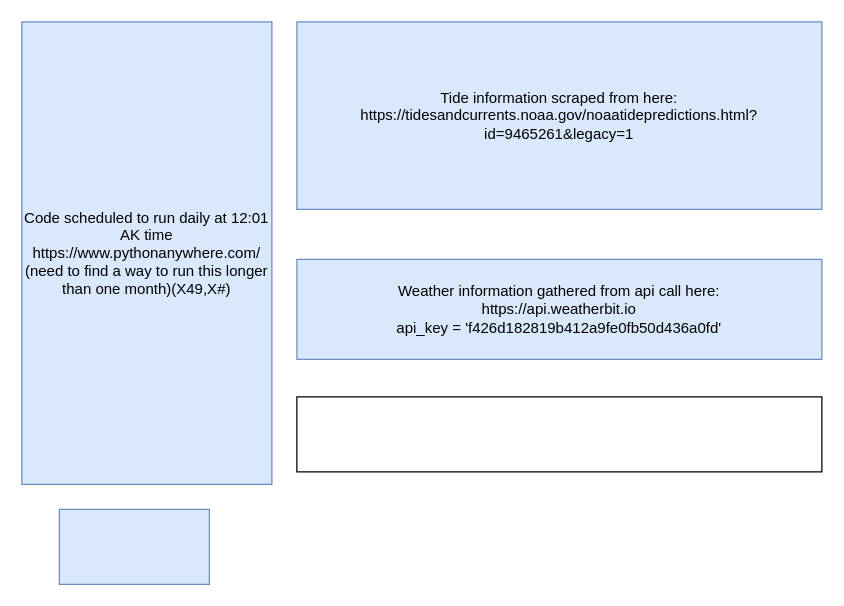
The diagram is 844 pixels wide and 606 high, and some of its shapes have lost their labels. Each missing label, with the box of its shape:
Backup code: (58, 508, 209, 584)
Results stored here: Google Sheets: (296, 396, 822, 472)
